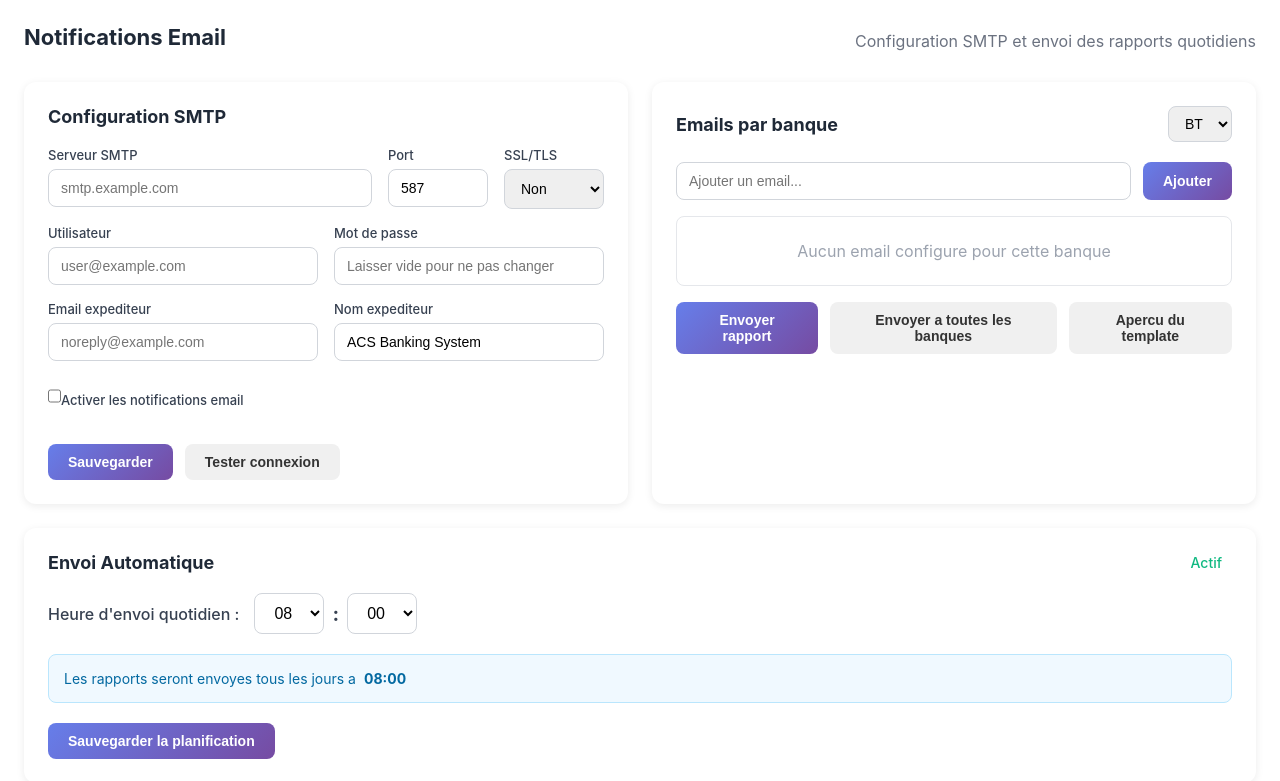
Notifications › shows error message when SMTP test fails
The image size is (1280, 781).
Expected: the heading "Notifications Email" is shown, [24,24,226,50]
Click the button "Tester connexion": point(262, 462) [185,444,340,480]
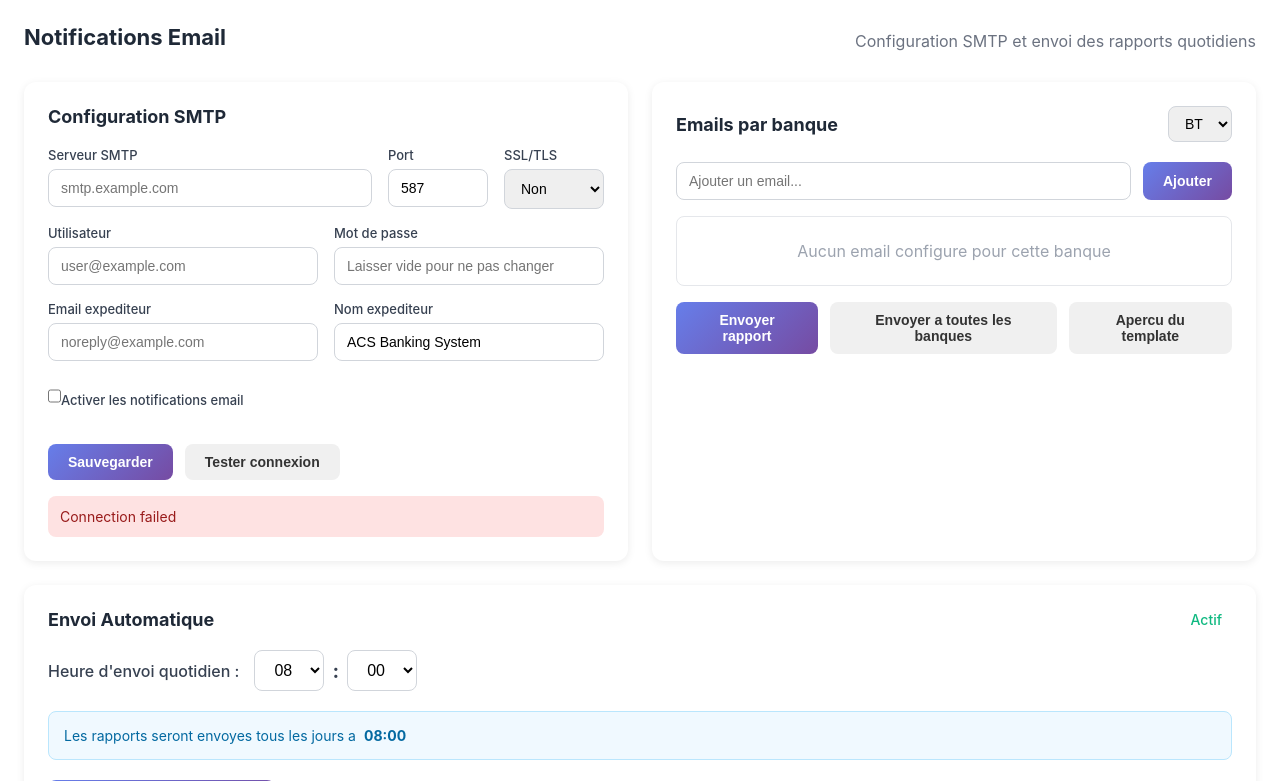
Expected: the text "Connection failed" is shown, [48,496,604,537]
